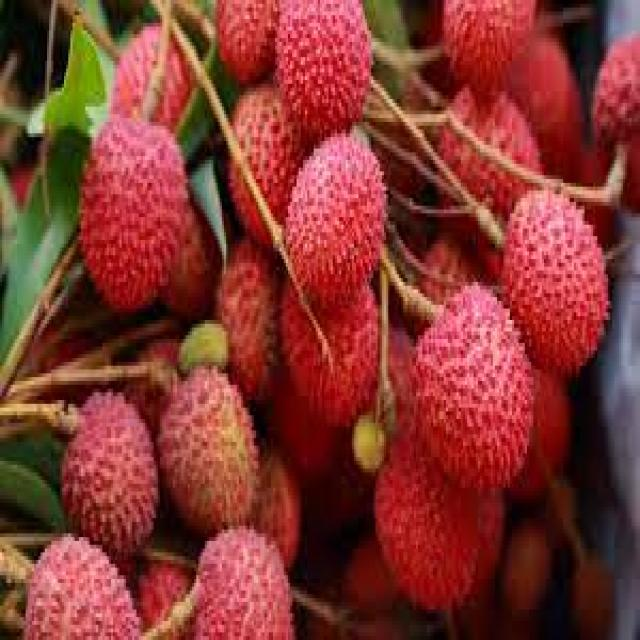lychee: (240, 66, 608, 497)
